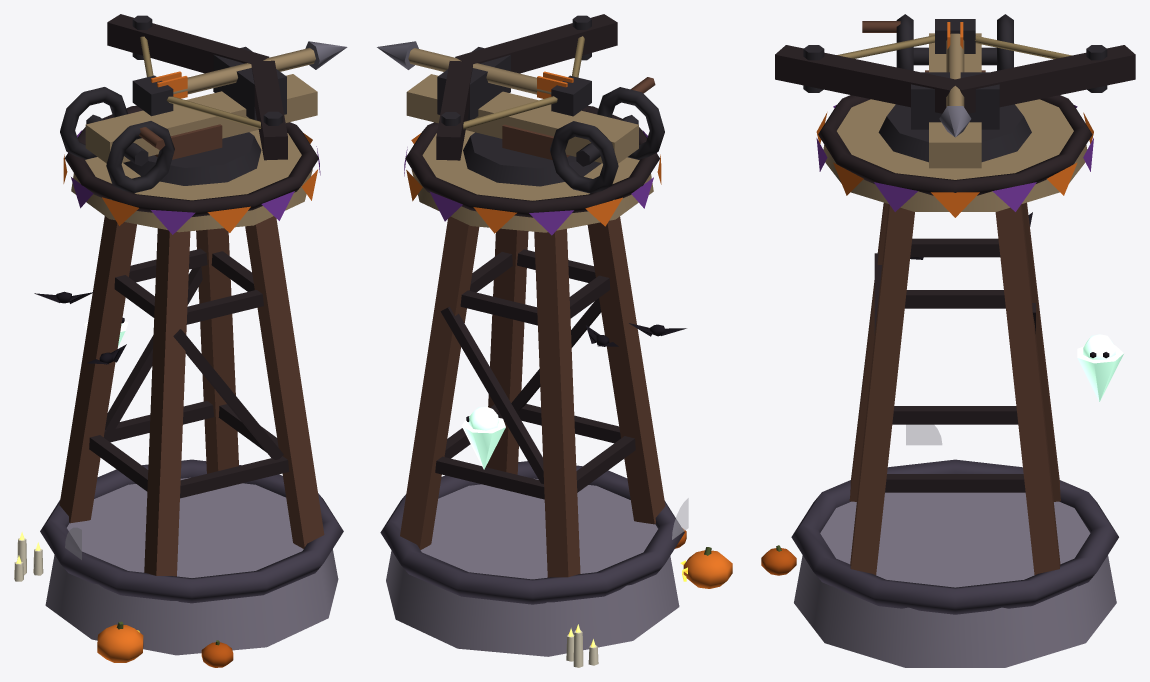
The model's file is tower_ballista.glb.
3 views of the same model, side by side, from view 1: azimuth 30°, elevation 25°; view 2: azimuth 150°, elevation 25°; view 3: azimuth 270°, elevation 25° (orthographic). The views are drawn at different scales.
Parts seen in each view (by area): view 1: base, leg_wn, base_rim, leg_en, leg_ws, leg_es, deck, stock, deck_rim, bow_arm_r, turret_ring, deco_hw_bunting (+23 smaller); view 2: base, leg_ws, base_rim, leg_es, leg_wn, deck, stock, leg_en, deck_rim, bow_arm_l, turret_ring, brace_b (+23 smaller); view 3: base, base_rim, leg_en, leg_es, deck, deck_rim, bow_arm_r, bow_arm_l, turret_ring, deco_hw_bunting, stock, ring_e_0.21 (+18 smaller).
Part boxes in pixels (box(x1,y1,x2,y2)): base: box(45, 477, 338, 655); leg_wn: box(144, 228, 190, 576); base_rim: box(40, 459, 343, 603); leg_en: box(245, 216, 324, 548); leg_ws: box(59, 216, 136, 523); leg_es: box(196, 228, 238, 473); deck: box(71, 130, 312, 232); stock: box(85, 74, 317, 163); deck_rim: box(64, 105, 318, 216); bow_arm_r: box(107, 14, 269, 73); turret_ring: box(123, 132, 261, 185); deco_hw_bunting: box(63, 130, 320, 234); base: box(386, 478, 679, 656); leg_ws: box(534, 229, 580, 577); base_rim: box(380, 461, 684, 604); leg_es: box(400, 216, 479, 549); leg_wn: box(587, 216, 665, 524); deck: box(411, 130, 653, 232); stock: box(406, 74, 638, 163); leg_en: box(486, 228, 528, 474); deck_rim: box(405, 106, 659, 217); bow_arm_l: box(455, 14, 617, 73); turret_ring: box(463, 132, 601, 186); brace_b: box(440, 306, 543, 483); base: box(794, 492, 1116, 667); base_rim: box(791, 459, 1118, 614); leg_en: box(850, 204, 914, 575); leg_es: box(995, 204, 1060, 574); deck: box(823, 99, 1087, 211); deck_rim: box(818, 95, 1092, 195); bow_arm_r: box(952, 45, 1135, 113); bow_arm_l: box(775, 45, 960, 113); turret_ring: box(878, 104, 1031, 162); deco_hw_bunting: box(816, 105, 1093, 217); stock: box(929, 33, 981, 168); ring_e_0.21: box(885, 474, 1025, 492).
Bounding box in the file's own units: 0.463 × 0.7685 × 0.4638.
